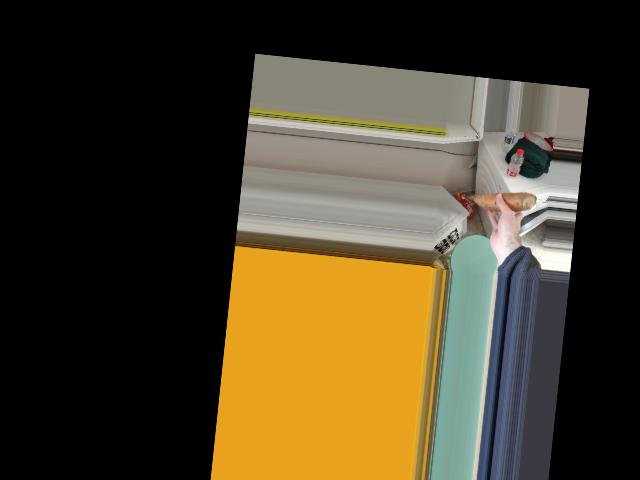sweet_potato: (473, 193, 527, 213)
